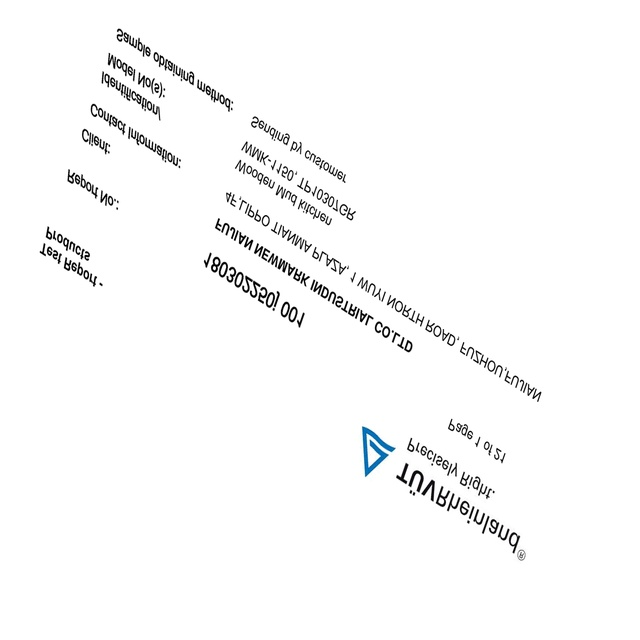tuv_rheinland: (358, 423, 528, 563)
